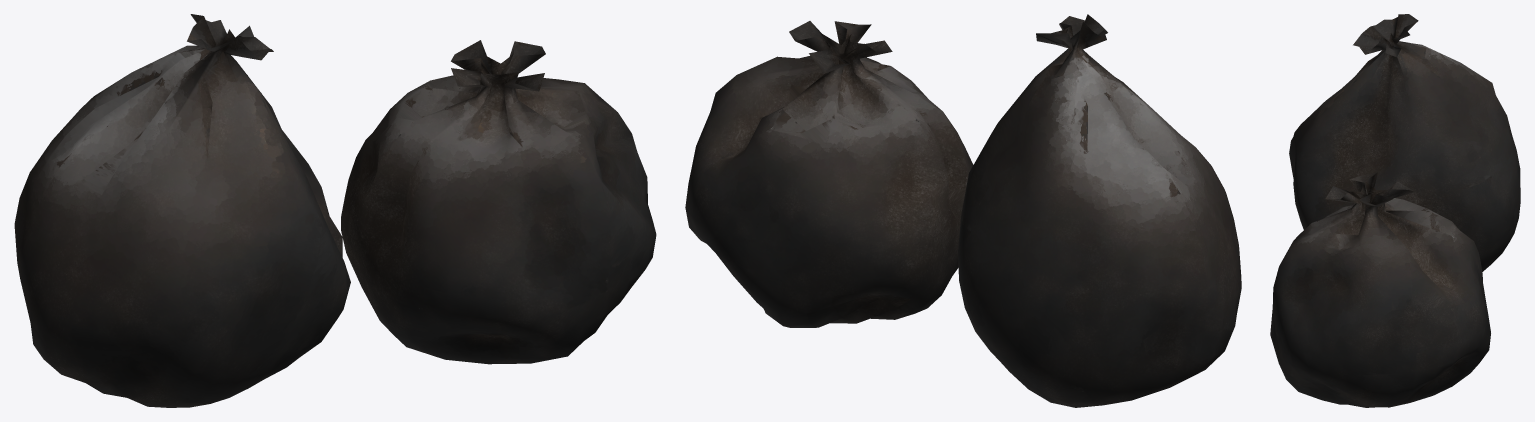
The model's file is Trash.fbx.
The picture shows the model from 3 angles, left to right: view 1: azimuth 30°, elevation 25°; view 2: azimuth 150°, elevation 25°; view 3: azimuth 270°, elevation 25°; orthographic projection. The views are drawn at different scales.
Visible parts, largest first — view 1: trash bag, trash bag.001; view 2: trash bag, trash bag.001; view 3: trash bag.001, trash bag.
Part boxes in pixels (x1,y1,x2,y2): trash bag: (14,14,350,407); trash bag.001: (341,40,656,364); trash bag: (958,14,1241,407); trash bag.001: (685,21,973,327); trash bag.001: (1270,172,1490,407); trash bag: (1289,14,1520,271).
Size of the model in its own units: 217 by 137 by 111.
